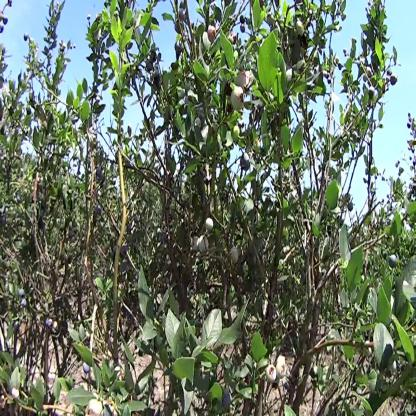intermediate: (264, 364, 278, 386), (207, 25, 219, 46)
mature: (389, 254, 399, 271), (390, 75, 399, 89)
young: (231, 85, 247, 111), (275, 355, 289, 381), (203, 215, 217, 237), (232, 126, 242, 144)
